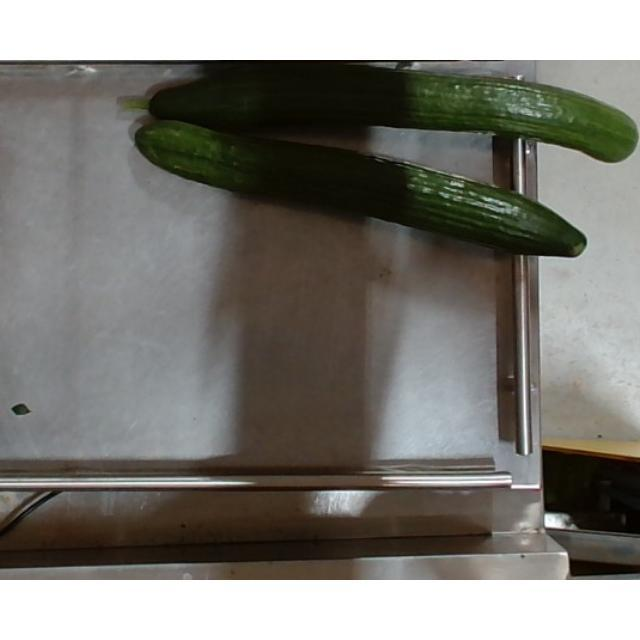cucumber: (137, 120, 588, 258), (119, 64, 639, 164)
